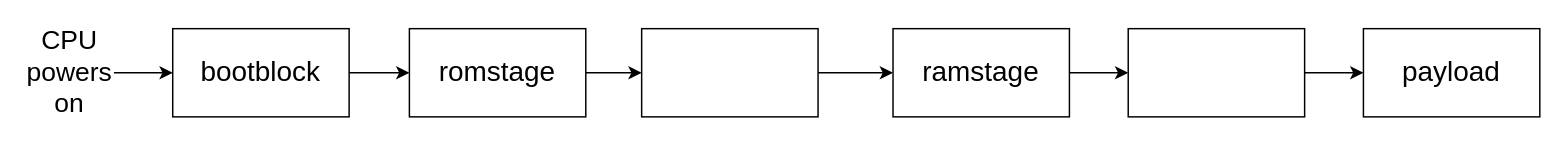
The diagram is 1566 pixels wide and 146 high, and some of its shapes have lost their labels. The box of each missing label's shape, as (x1, y1, x2, y2) in pixels:
iperboot proper: (1127, 27, 1305, 117)
postcar: (640, 27, 818, 117)
